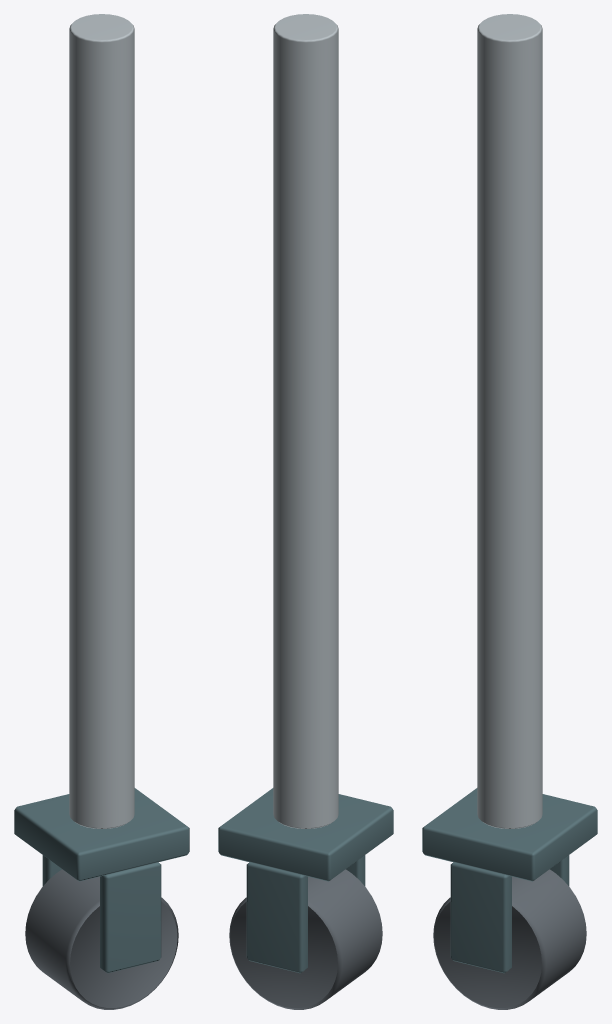
Rendered from VLAB_follower.fbx.
3 views of the same model, side by side, from view 1: azimuth 30°, elevation 25°; view 2: azimuth 150°, elevation 25°; view 3: azimuth 330°, elevation 25° (orthographic).
Visible parts, largest first — view 1: VLAB_follower_Stem_VIS, VLAB_follower_Head_VIS, VLAB_follower_RollerOptional_VIS; view 2: VLAB_follower_Stem_VIS, VLAB_follower_Head_VIS, VLAB_follower_RollerOptional_VIS; view 3: VLAB_follower_Stem_VIS, VLAB_follower_Head_VIS, VLAB_follower_RollerOptional_VIS.
Boxes of the visible parts, x1,y1,x2,y2 form: VLAB_follower_Stem_VIS: [69, 14, 134, 828]; VLAB_follower_Head_VIS: [14, 788, 189, 973]; VLAB_follower_RollerOptional_VIS: [25, 869, 178, 1009]; VLAB_follower_Stem_VIS: [273, 14, 338, 828]; VLAB_follower_Head_VIS: [218, 788, 393, 973]; VLAB_follower_RollerOptional_VIS: [229, 869, 382, 1009]; VLAB_follower_Stem_VIS: [477, 14, 542, 828]; VLAB_follower_Head_VIS: [422, 788, 597, 973]; VLAB_follower_RollerOptional_VIS: [433, 869, 586, 1009].
Bounding box in the file's own units: 0.012 × 0.098 × 0.012.
